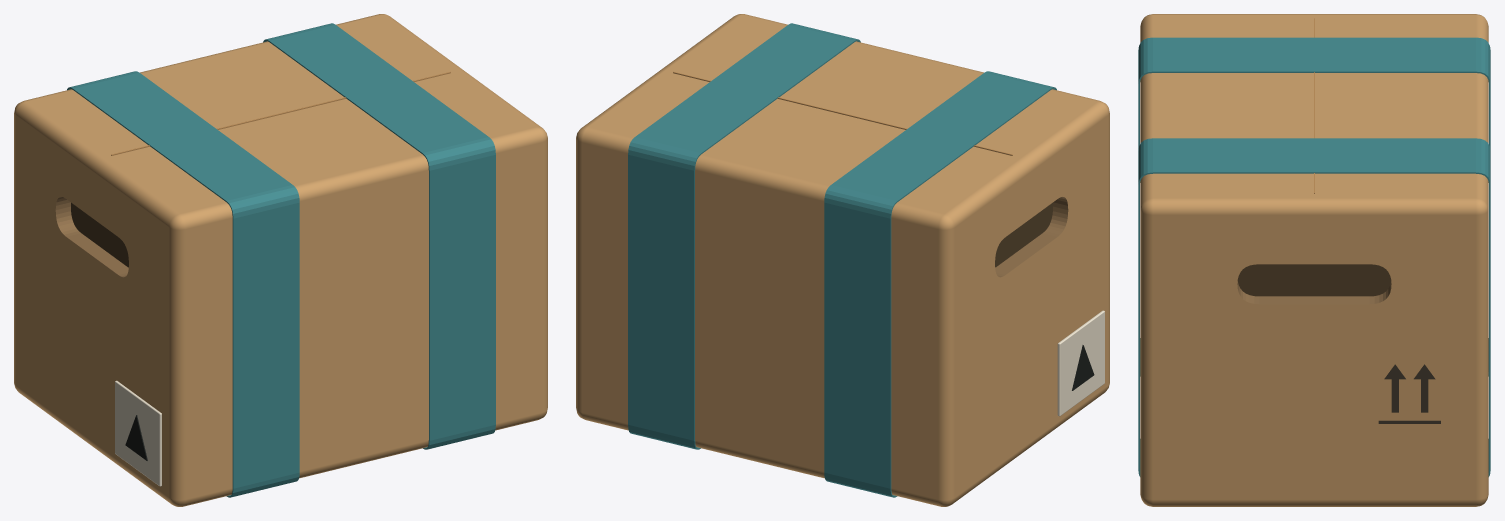
File: play-parcel-large-teal.glb
The picture shows the model from 3 angles, left to right: view 1: azimuth 30°, elevation 25°; view 2: azimuth 150°, elevation 25°; view 3: azimuth 270°, elevation 25°; orthographic projection. The views are drawn at different scales.
Visible parts, largest first — view 1: Parcel_Carton, Parcel_Tape_Parallel_1, Parcel_Tape_Parallel_2, Parcel_Paper_Label, Parcel_Carry_Slot_Walls_Negative_X, Parcel_Carry_Slot_Interior_Negative_X; view 2: Parcel_Carton, Parcel_Tape_Parallel_1, Parcel_Tape_Parallel_2, Parcel_Paper_Label, Parcel_Carry_Slot_Walls_Negative_X, Parcel_Carry_Slot_Interior_Negative_X; view 3: Parcel_Carton, Parcel_Tape_Parallel_2, Parcel_Tape_Parallel_1, Parcel_Carry_Slot_Interior_Positive_X, Parcel_Carry_Slot_Walls_Positive_X, Parcel_Up_Arrows_Positive_X.
Boxes of the visible parts, x1=… form: Parcel_Carton: x1=14, y1=14, x2=547, y2=506; Parcel_Tape_Parallel_1: x1=67, y1=71, x2=299, y2=497; Parcel_Tape_Parallel_2: x1=263, y1=23, x2=495, y2=449; Parcel_Paper_Label: x1=115, y1=380, x2=161, y2=486; Parcel_Carry_Slot_Walls_Negative_X: x1=55, y1=197, x2=128, y2=277; Parcel_Carry_Slot_Interior_Negative_X: x1=71, y1=202, x2=128, y2=267; Parcel_Carton: x1=576, y1=14, x2=1109, y2=506; Parcel_Tape_Parallel_1: x1=824, y1=71, x2=1056, y2=497; Parcel_Tape_Parallel_2: x1=628, y1=23, x2=860, y2=449; Parcel_Paper_Label: x1=1057, y1=310, x2=1104, y2=416; Parcel_Carry_Slot_Walls_Negative_X: x1=995, y1=197, x2=1068, y2=277; Parcel_Carry_Slot_Interior_Negative_X: x1=995, y1=202, x2=1052, y2=267; Parcel_Carton: x1=1140, y1=14, x2=1488, y2=506; Parcel_Tape_Parallel_2: x1=1138, y1=138, x2=1490, y2=476; Parcel_Tape_Parallel_1: x1=1138, y1=37, x2=1490, y2=376; Parcel_Carry_Slot_Interior_Positive_X: x1=1237, y1=264, x2=1391, y2=296; Parcel_Carry_Slot_Walls_Positive_X: x1=1237, y1=281, x2=1391, y2=304; Parcel_Up_Arrows_Positive_X: x1=1378, y1=364, x2=1440, y2=423.
Bounding box in the file's own units: 0.253 × 0.187 × 0.192.
